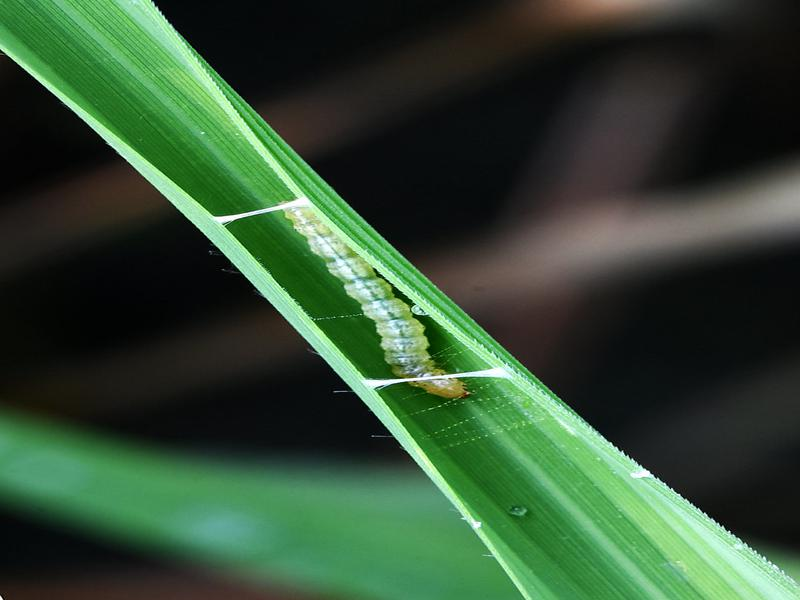Leaf_folder: (261, 182, 468, 411)
